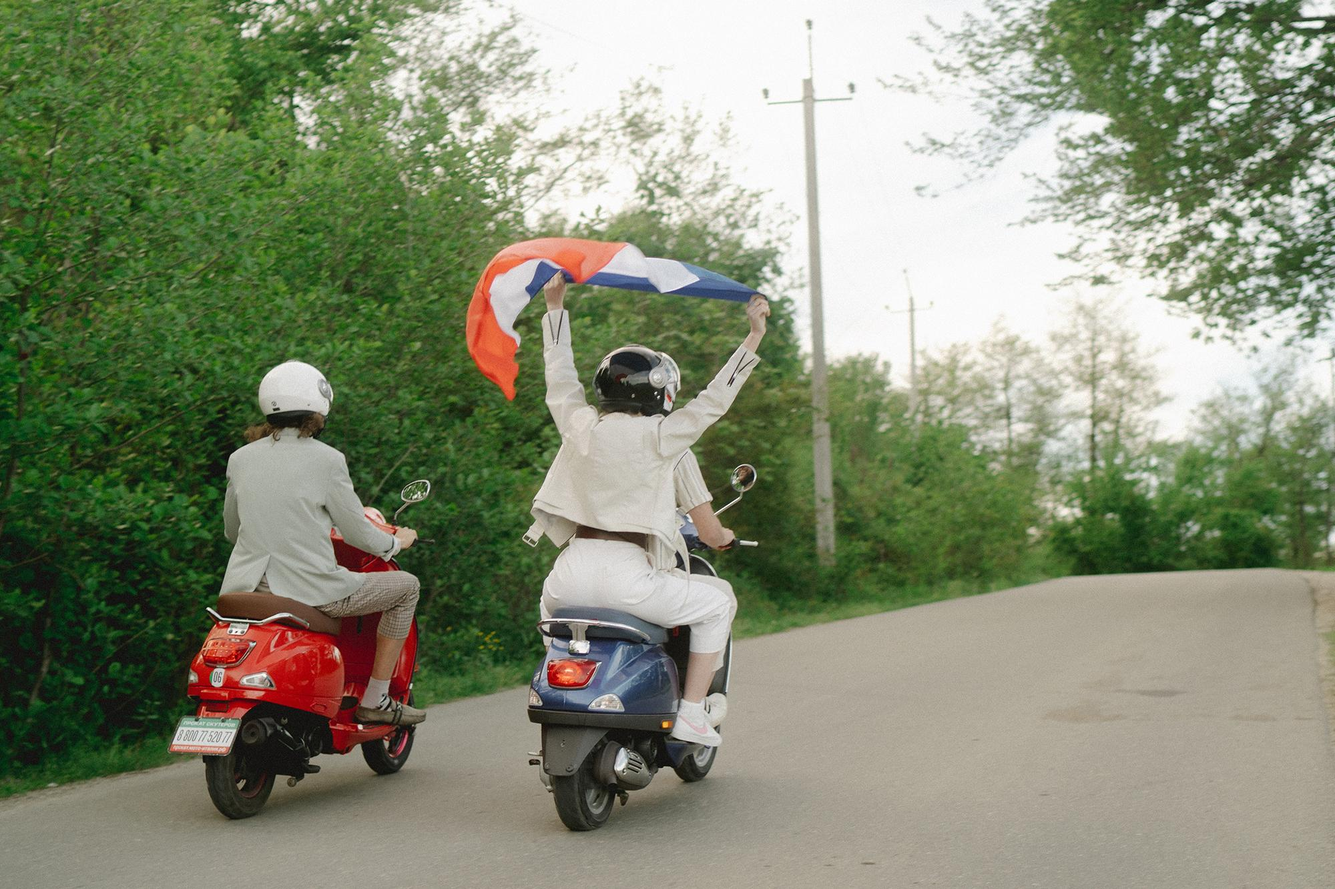helmet: (592, 342, 682, 419), (258, 358, 335, 440)
